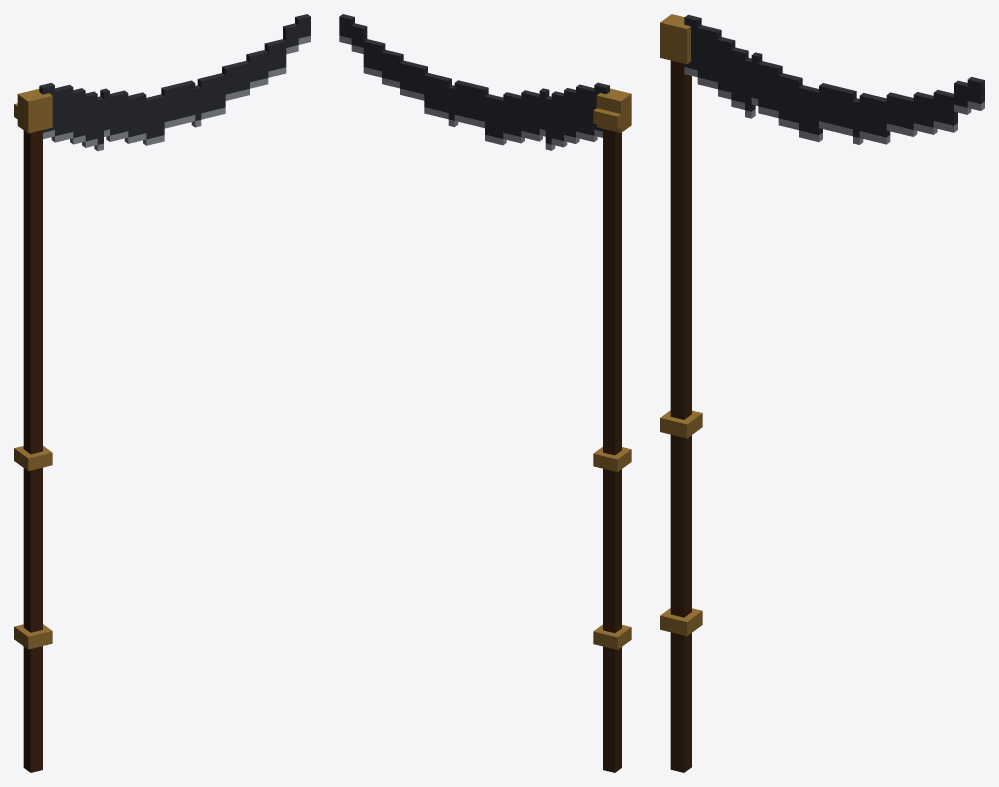
File: steel_war_scythe.glb
The picture shows the model from 3 angles, left to right: view 1: azimuth 30°, elevation 25°; view 2: azimuth 150°, elevation 25°; view 3: azimuth 330°, elevation 25°; orthographic projection. The views are drawn at different scales.
Visible parts, largest first — view 1: steel_war_scythe; view 2: steel_war_scythe; view 3: steel_war_scythe.
Boxes of the visible parts, bbox=[...] form: steel_war_scythe: bbox=[14, 14, 310, 772]; steel_war_scythe: bbox=[339, 14, 631, 772]; steel_war_scythe: bbox=[660, 14, 984, 772].
Size of the model in its own units: 0.705 by 1.62 by 0.06.
